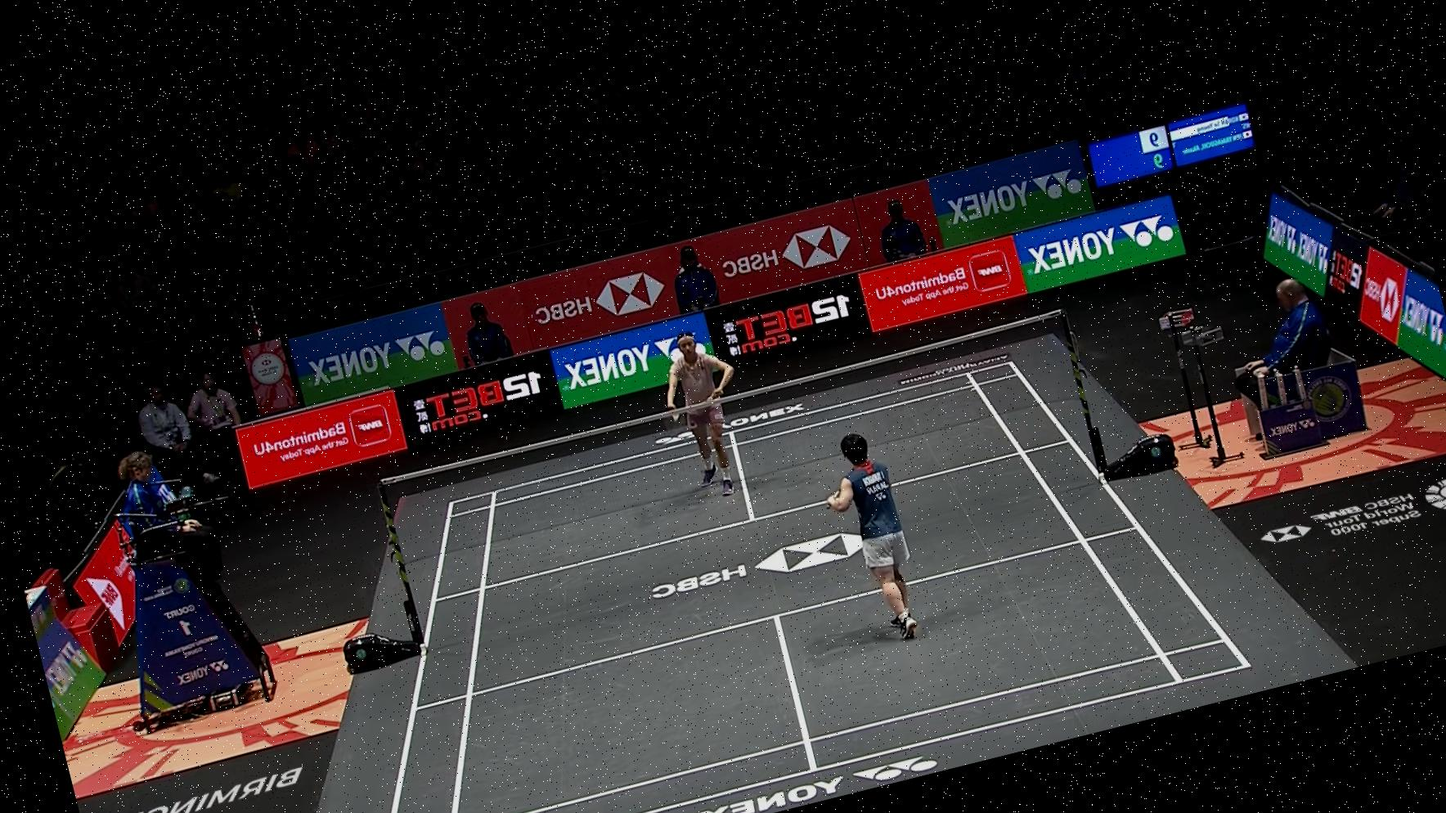Player 1: (632, 317, 773, 516)
Player 2: (797, 419, 939, 665)
shuttle: (666, 408, 684, 424)
